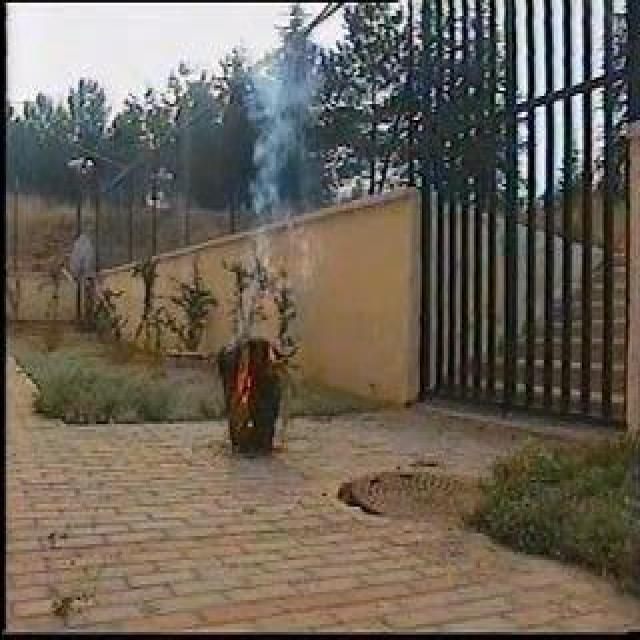fire: (234, 338, 258, 402)
smoke: (244, 75, 312, 229)
